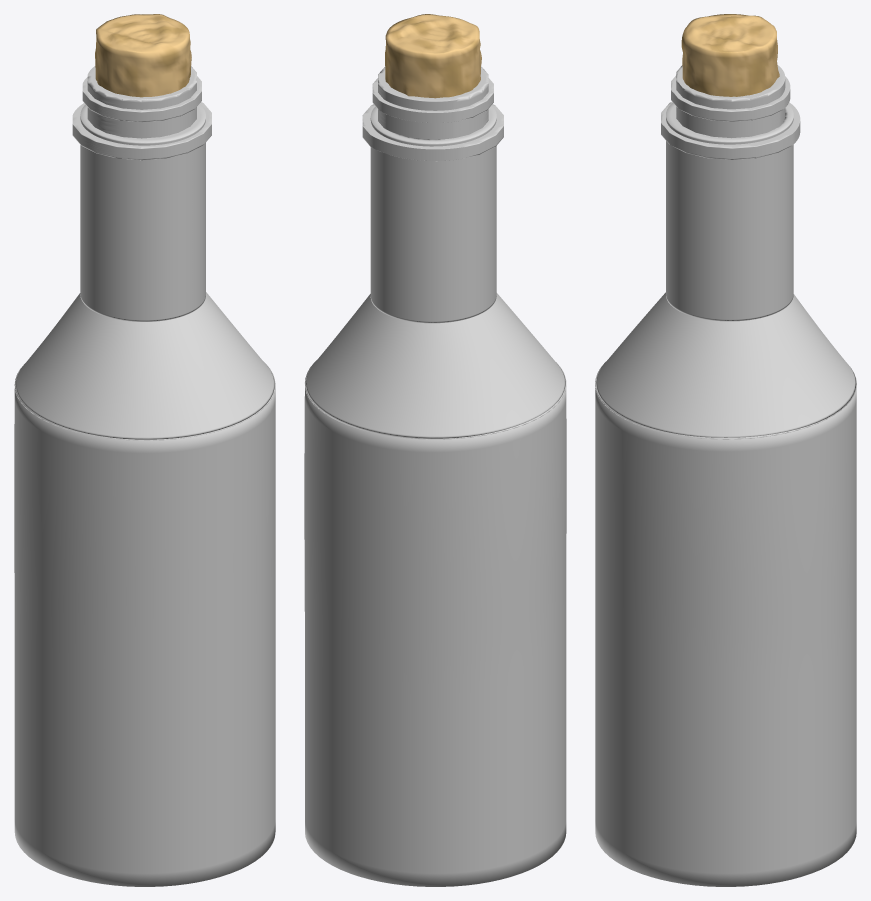
The model's file is MessageInABottle.fbx.
3 renders of one model, left to right at view 1: azimuth 30°, elevation 25°; view 2: azimuth 150°, elevation 25°; view 3: azimuth 270°, elevation 25°, orthographic.
Parts seen in each view (by area): view 1: Bottle, Cork; view 2: Bottle, Cork; view 3: Bottle, Cork.
Boxes of the visible parts, box(x1,y1,x2,y2) form: Bottle: box(14, 66, 275, 886); Cork: box(95, 14, 191, 97); Bottle: box(304, 66, 566, 886); Cork: box(385, 14, 481, 98); Bottle: box(595, 65, 856, 886); Cork: box(681, 14, 779, 96).
Size of the model in its own units: 30.99 by 105 by 30.95.
3 materials, 2 textured.
